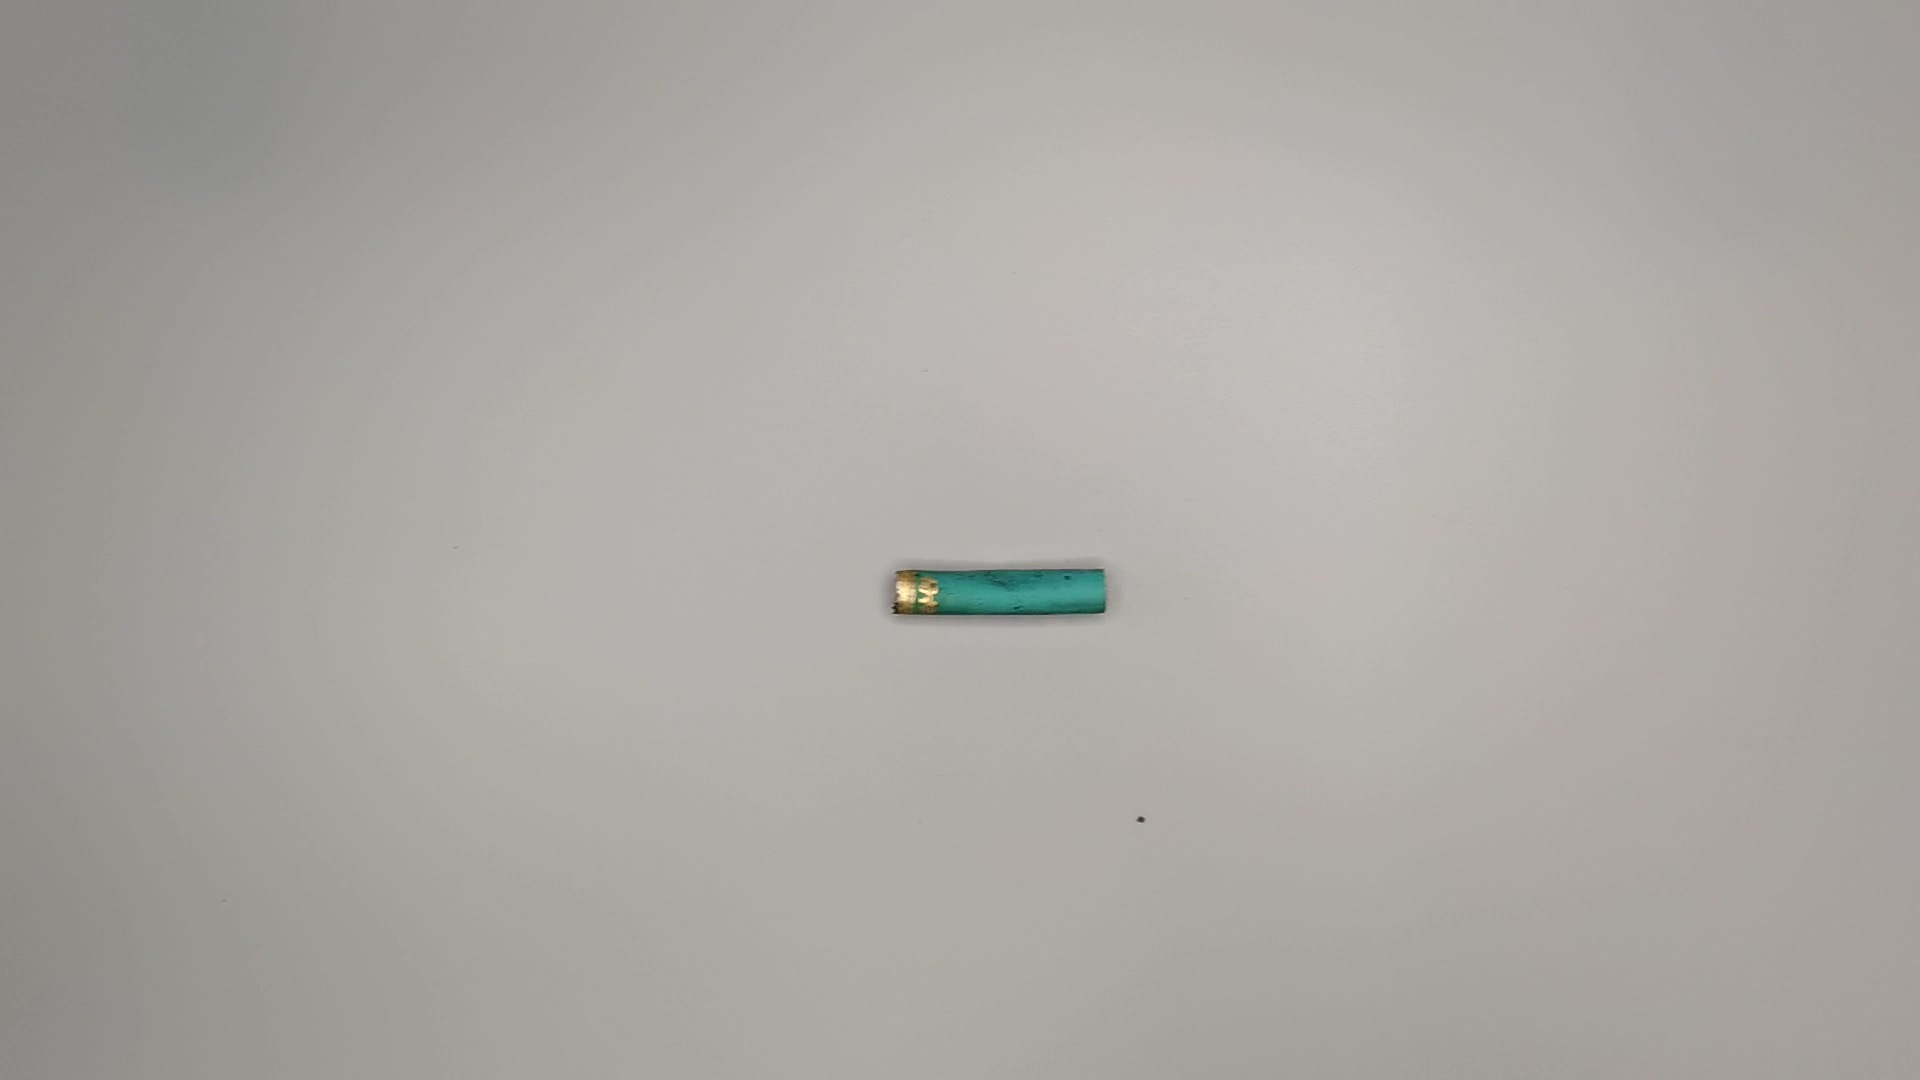cigarette: (887, 550, 1127, 636)
